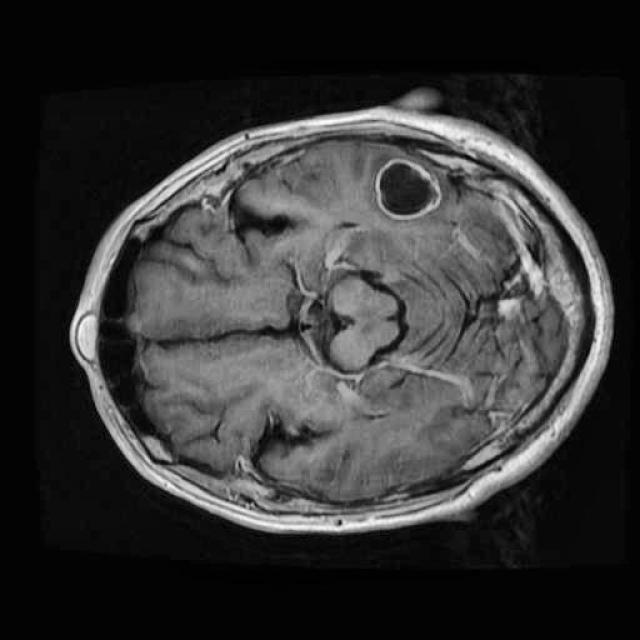Tumor: (363, 148, 466, 236)
